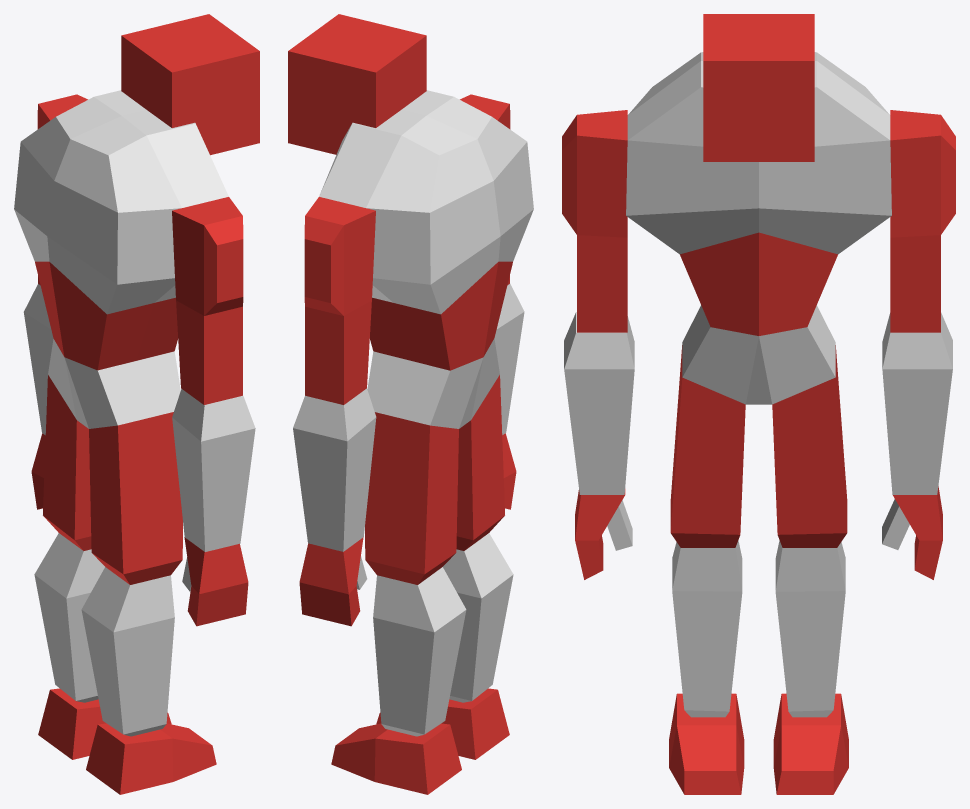
Rendered from Enemy_FBX.fbx.
The picture shows the model from 3 angles, left to right: view 1: azimuth 30°, elevation 25°; view 2: azimuth 150°, elevation 25°; view 3: azimuth 270°, elevation 25°; orthographic projection. The views are drawn at different scales.
Parts seen in each view (by area): view 1: Chest, Head, R_Leg_Sup, R_Arm, L_Leg_Inf.001, R_AvantArm, Belly, Hip, L_Leg_Inf, L_Toe.001, L_Leg_Sup, R_Hand (+4 smaller); view 2: Chest, Head, L_Leg_Sup, L_Arm, L_Leg_Inf, L_AvantArm, Belly, Hip, L_Leg_Inf.001, L_Toe, R_Leg_Sup, L_Hand (+4 smaller); view 3: Chest, Head, L_Arm, R_Arm, Belly, R_Leg_Sup, L_Leg_Sup, L_Leg_Inf.001, L_Leg_Inf, Hip, L_AvantArm, R_AvantArm (+6 smaller).
Boxes of the visible parts, box(x1,y1,x2,y2) form: Chest: box(14, 90, 228, 314); Head: box(121, 14, 259, 155); R_Leg_Sup: box(89, 412, 182, 584); R_Arm: box(172, 197, 243, 404); L_Leg_Inf.001: box(81, 567, 174, 736); R_AvantArm: box(172, 389, 255, 551); Belly: box(35, 261, 178, 370); Hip: box(48, 339, 180, 428); L_Leg_Inf: box(34, 533, 104, 702); L_Toe.001: box(86, 723, 216, 794); L_Leg_Sup: box(43, 375, 91, 550); R_Hand: box(184, 537, 248, 626); Chest: box(319, 90, 533, 314); Head: box(288, 14, 426, 154); L_Leg_Sup: box(365, 412, 458, 584); L_Arm: box(304, 197, 375, 404); L_Leg_Inf: box(373, 567, 466, 736); L_AvantArm: box(293, 388, 376, 551); Belly: box(369, 261, 512, 370); Hip: box(367, 338, 499, 428); L_Leg_Inf.001: box(443, 533, 513, 702); L_Toe: box(331, 723, 461, 794); R_Leg_Sup: box(456, 375, 504, 550); L_Hand: box(299, 537, 363, 626); Chest: box(626, 52, 891, 254); Head: box(703, 14, 814, 161); L_Arm: box(890, 110, 955, 332); R_Arm: box(562, 110, 627, 332); Belly: box(680, 232, 837, 335); R_Leg_Sup: box(670, 345, 745, 547); L_Leg_Sup: box(772, 345, 847, 547); L_Leg_Inf.001: box(672, 540, 742, 717); L_Leg_Inf: box(775, 540, 845, 717); Hip: box(682, 305, 835, 404); L_AvantArm: box(882, 312, 952, 494); R_AvantArm: box(564, 312, 634, 494).
Bounding box in the file's own units: 210 × 744 × 348.
